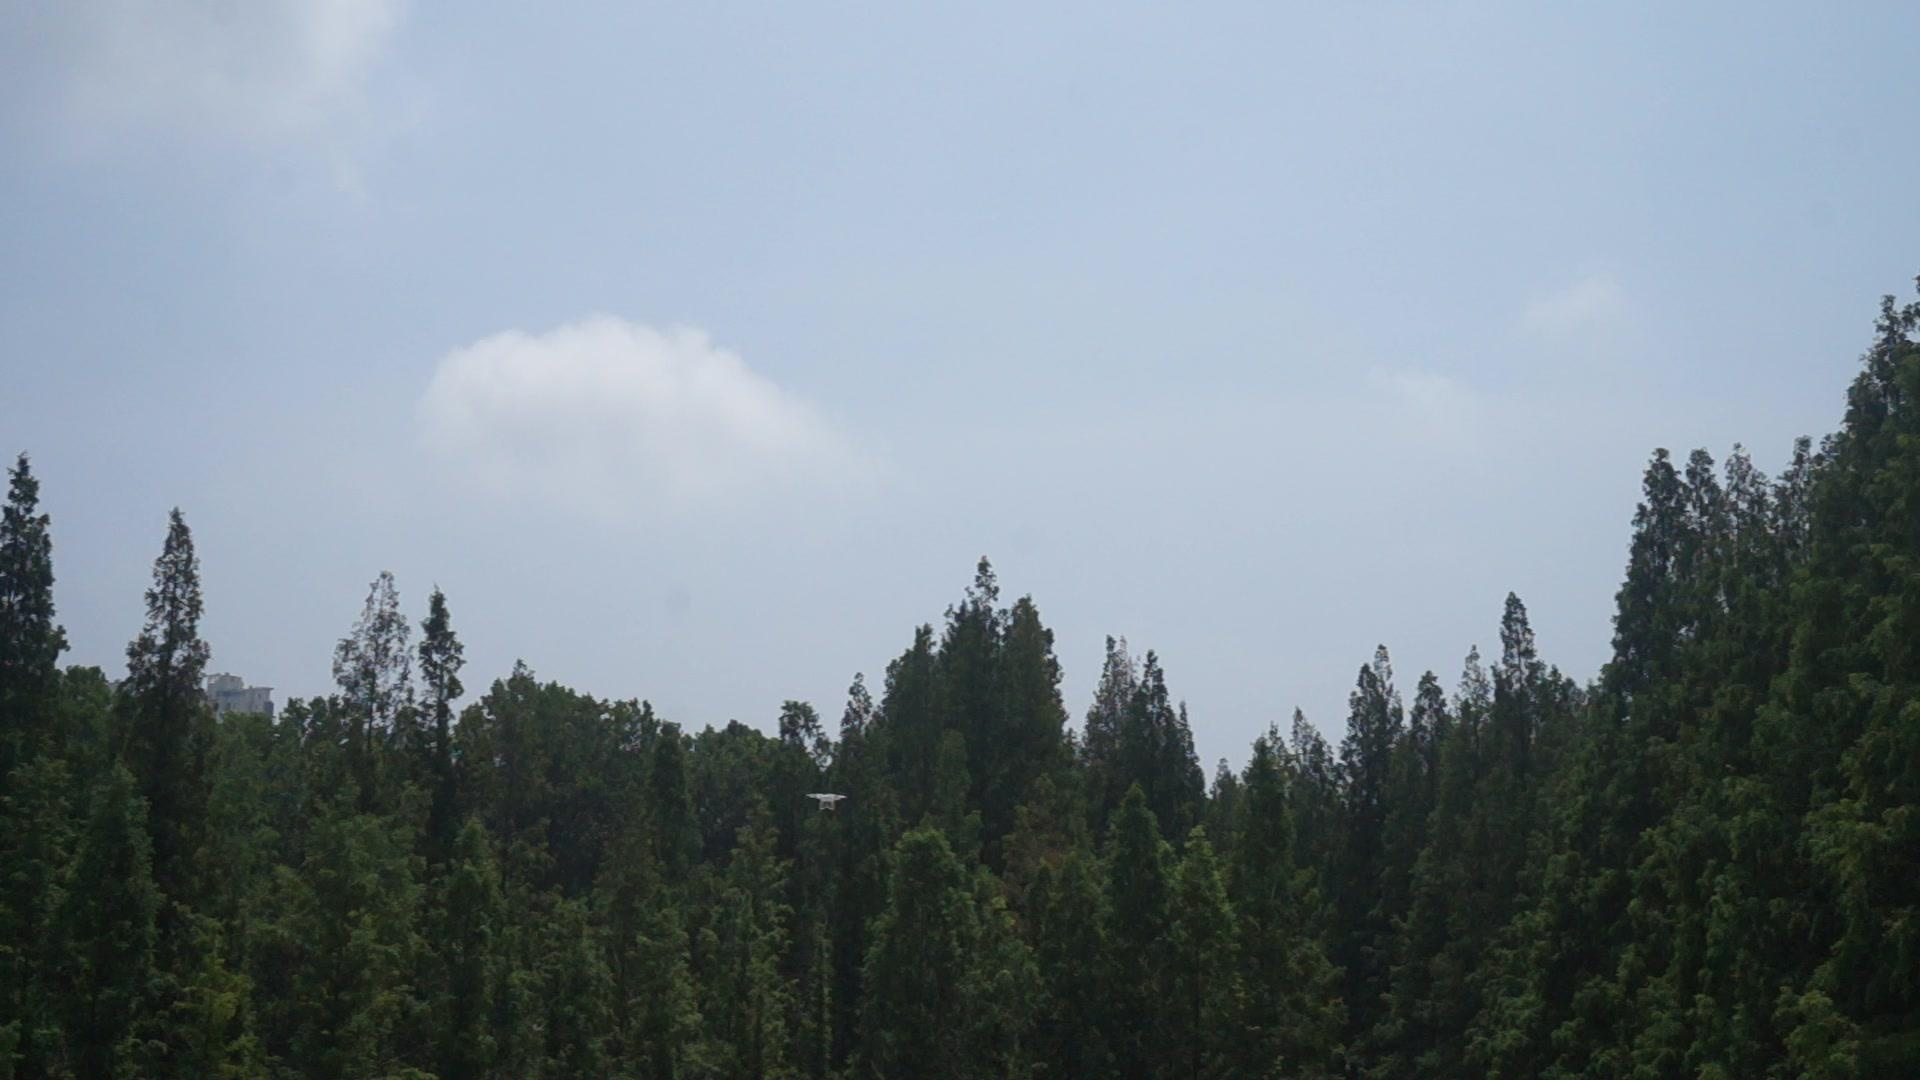UAV: (807, 794, 849, 812)
